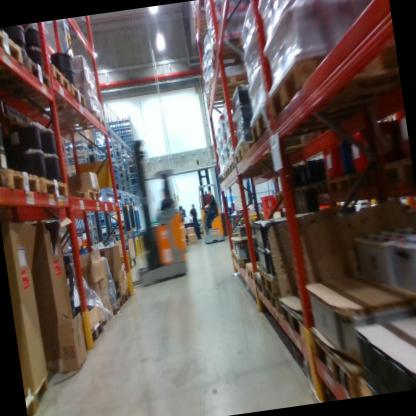forklift: (112, 128, 193, 295), (188, 156, 227, 248)
pallet: (260, 32, 403, 126), (306, 319, 368, 400), (0, 77, 90, 124), (232, 131, 306, 172), (204, 21, 262, 71), (22, 107, 106, 141), (0, 52, 55, 103), (276, 295, 311, 357), (190, 0, 245, 39), (4, 154, 42, 210), (203, 83, 256, 113), (248, 96, 276, 152), (325, 166, 369, 201), (375, 151, 414, 189), (258, 263, 294, 301), (259, 281, 295, 317), (206, 69, 254, 94), (293, 174, 330, 205), (0, 26, 27, 66), (38, 172, 69, 206), (48, 56, 72, 94), (66, 186, 105, 208), (229, 246, 255, 274), (86, 320, 106, 353), (96, 309, 116, 335), (272, 187, 291, 211), (245, 260, 263, 284), (255, 268, 269, 297), (109, 294, 125, 317), (0, 161, 9, 193), (120, 286, 133, 307), (226, 154, 237, 174), (222, 161, 230, 180)
small_load_carrier: (259, 190, 280, 208), (261, 205, 282, 223)
